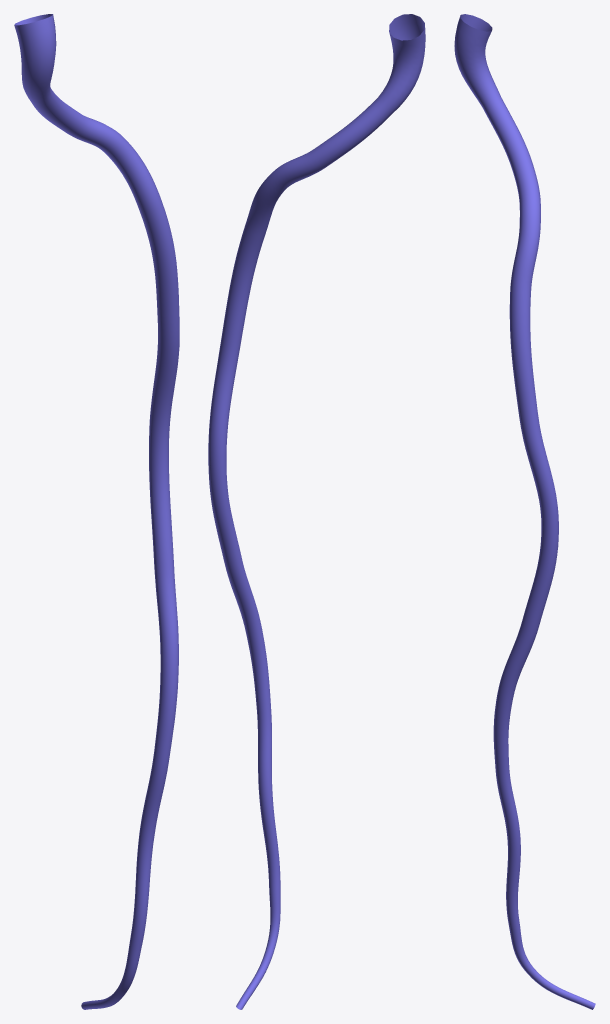
File: Deep_femoral_vein.l_BezierCurve.315.glb
3 renders of one model, left to right at view 1: azimuth 30°, elevation 25°; view 2: azimuth 150°, elevation 25°; view 3: azimuth 270°, elevation 25°, orthographic. The views are drawn at different scales.
Visible parts, largest first — view 1: Deep_femoral_vein.l_BezierCurve.315; view 2: Deep_femoral_vein.l_BezierCurve.315; view 3: Deep_femoral_vein.l_BezierCurve.315.
Boxes of the visible parts, <box> form: Deep_femoral_vein.l_BezierCurve.315: <box>14,14,179,1009</box>; Deep_femoral_vein.l_BezierCurve.315: <box>208,14,425,1009</box>; Deep_femoral_vein.l_BezierCurve.315: <box>454,14,595,1009</box>.
Bounding box in the file's own units: 0.0551 × 0.2907 × 0.0394.
